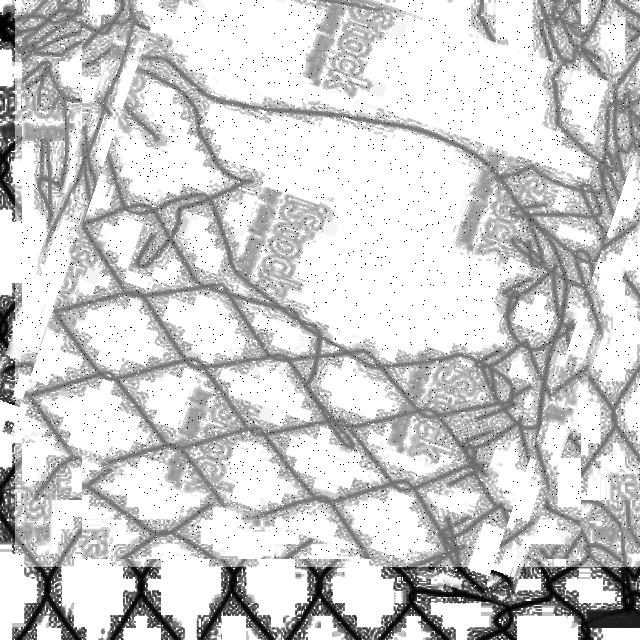anomaly-fence: (15, 0, 640, 567)
